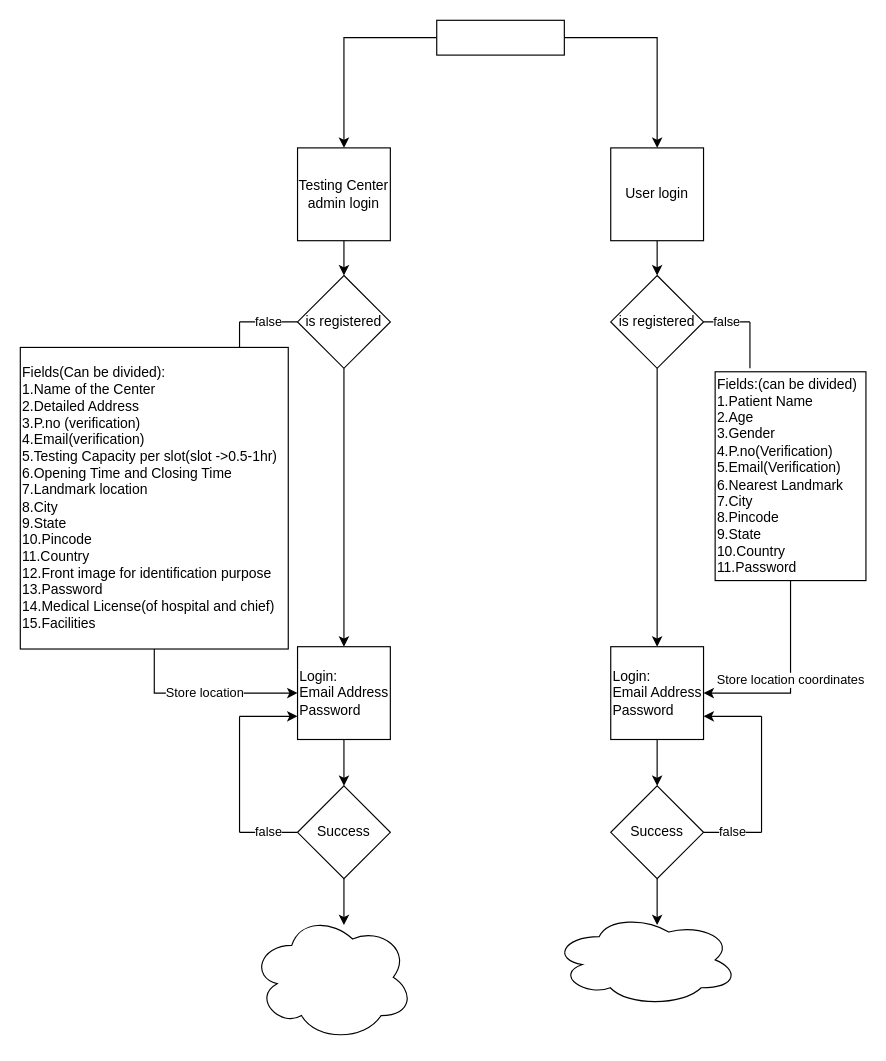
Image size: 886x1061. Some labels were removed from this diagram. The shapes that lost their labels are listed below. From the top down, each one's centre as x and y in pixels, then its label:
At [500,37]: "Main Front Page".
At [332,976]: "Upload results See appointments See rating and suggestions".
At [645,959]: "See results Book an test Give ratings".
